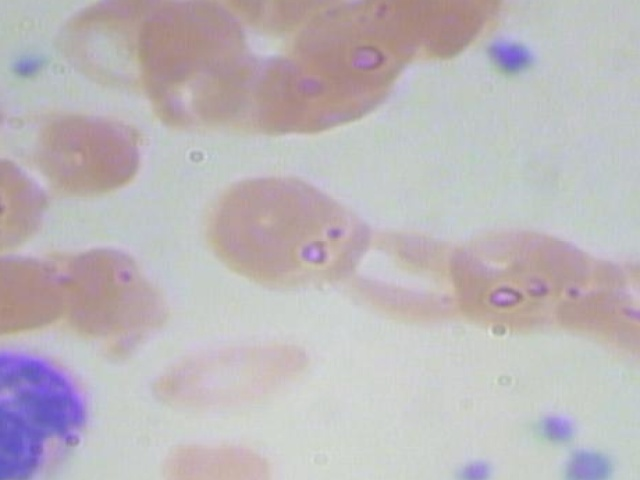Platelets: (474, 33, 547, 76), (549, 441, 624, 480), (533, 410, 583, 450), (435, 454, 508, 480), (4, 52, 49, 85)
RBC: (206, 174, 382, 297), (426, 221, 600, 332), (51, 239, 179, 370), (321, 216, 483, 319), (140, 328, 319, 417), (35, 109, 156, 200), (128, 427, 297, 480), (0, 246, 71, 349), (0, 147, 58, 256)
WBC: (0, 334, 98, 480)
